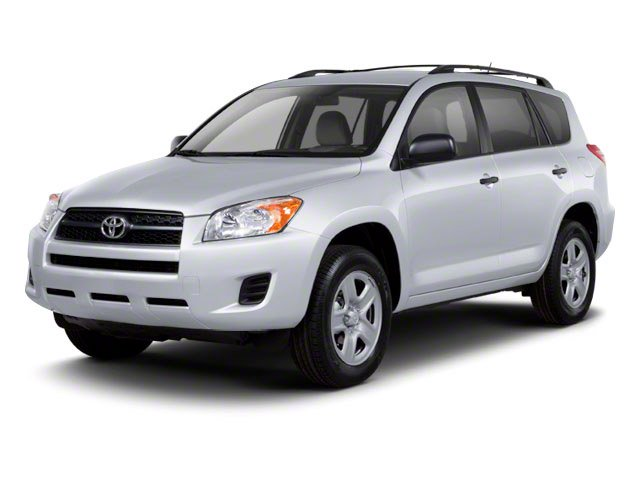Toyota RAV-4: (25, 62, 614, 391)
